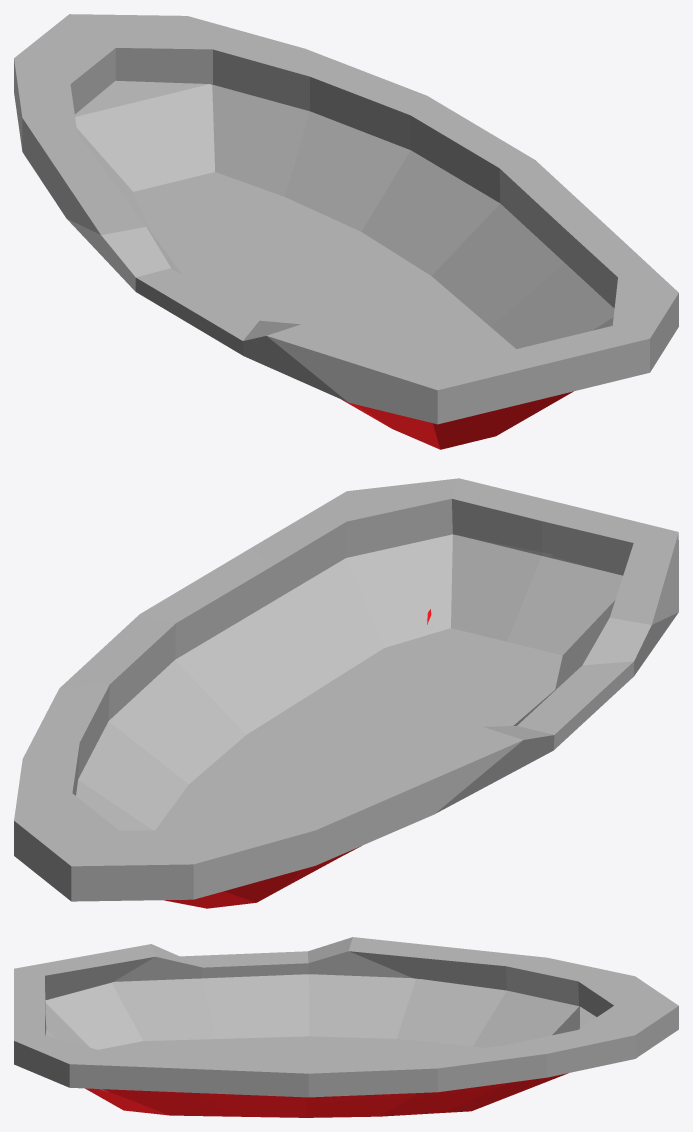
File: Map2_Ship2.fbx
The picture shows the model from 3 angles, top to bottom: view 1: azimuth 30°, elevation 25°; view 2: azimuth 150°, elevation 25°; view 3: azimuth 270°, elevation 25°; orthographic projection. The views are drawn at different scales.
Visible parts, largest first — view 1: Ship; view 2: Ship; view 3: Ship.
Part boxes in pixels (<box>): Ship: <box>14,14,678,449</box>; Ship: <box>14,478,678,908</box>; Ship: <box>14,937,678,1117</box>.
Size of the model in its own units: 2929 by 1425 by 464.
